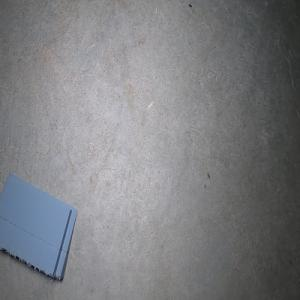PlasticPart: (0, 173, 77, 282)
